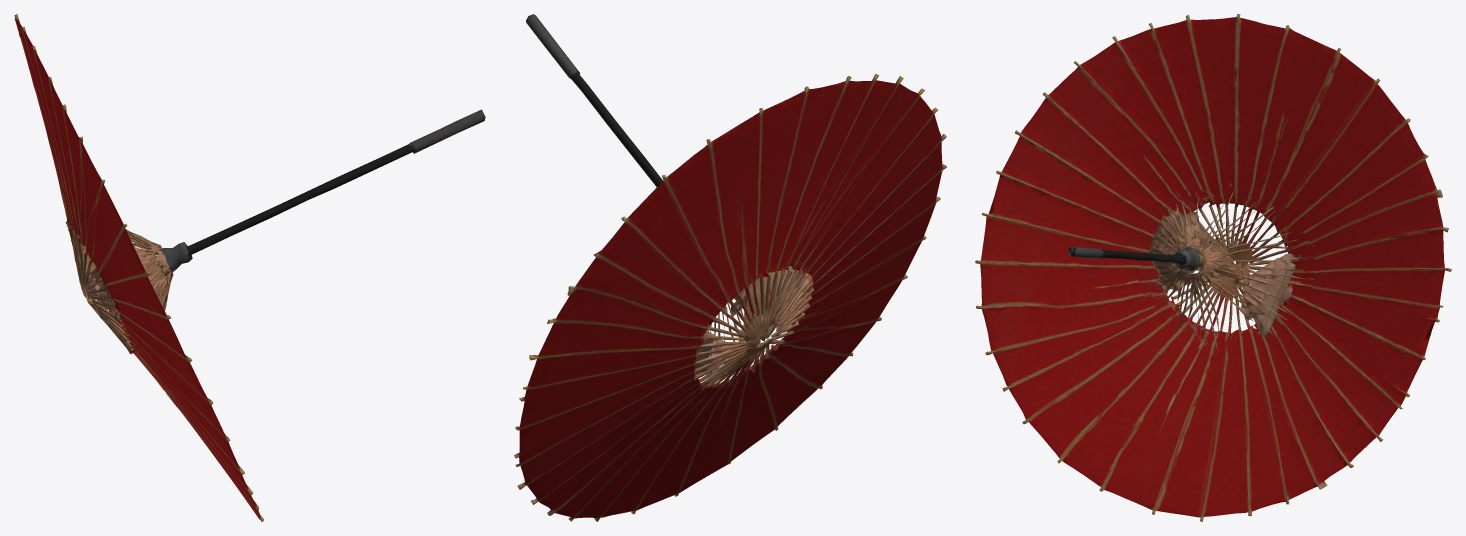
File: Japanese Umbrella.fbx
3 renders of one model, left to right at view 1: azimuth 30°, elevation 25°; view 2: azimuth 150°, elevation 25°; view 3: azimuth 270°, elevation 25°, orthographic. The views are drawn at different scales.
Parts seen in each view (by area): view 1: tripo_node_13c012bd; view 2: tripo_node_13c012bd; view 3: tripo_node_13c012bd.
Part boxes in pixels (<box>): tripo_node_13c012bd: <box>14,14,485,521</box>; tripo_node_13c012bd: <box>514,14,946,521</box>; tripo_node_13c012bd: <box>975,14,1451,521</box>.
Bounding box in the file's own units: 79.27 × 92.7 × 94.15.
